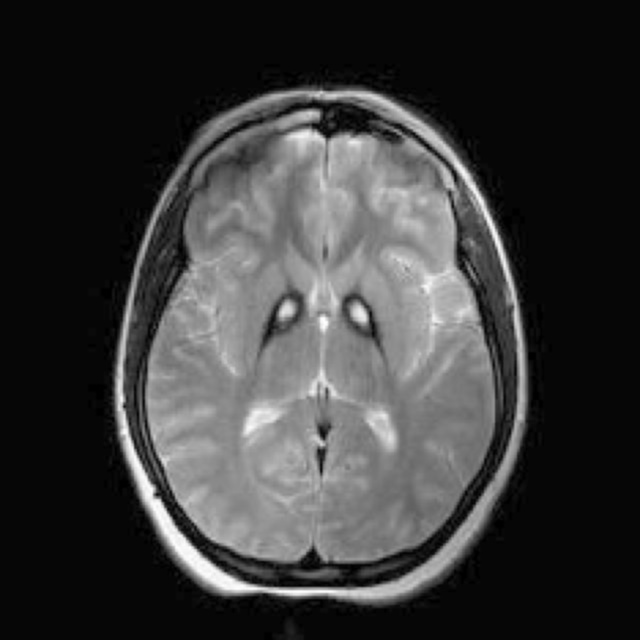glioma tumor: (211, 138, 462, 543)
